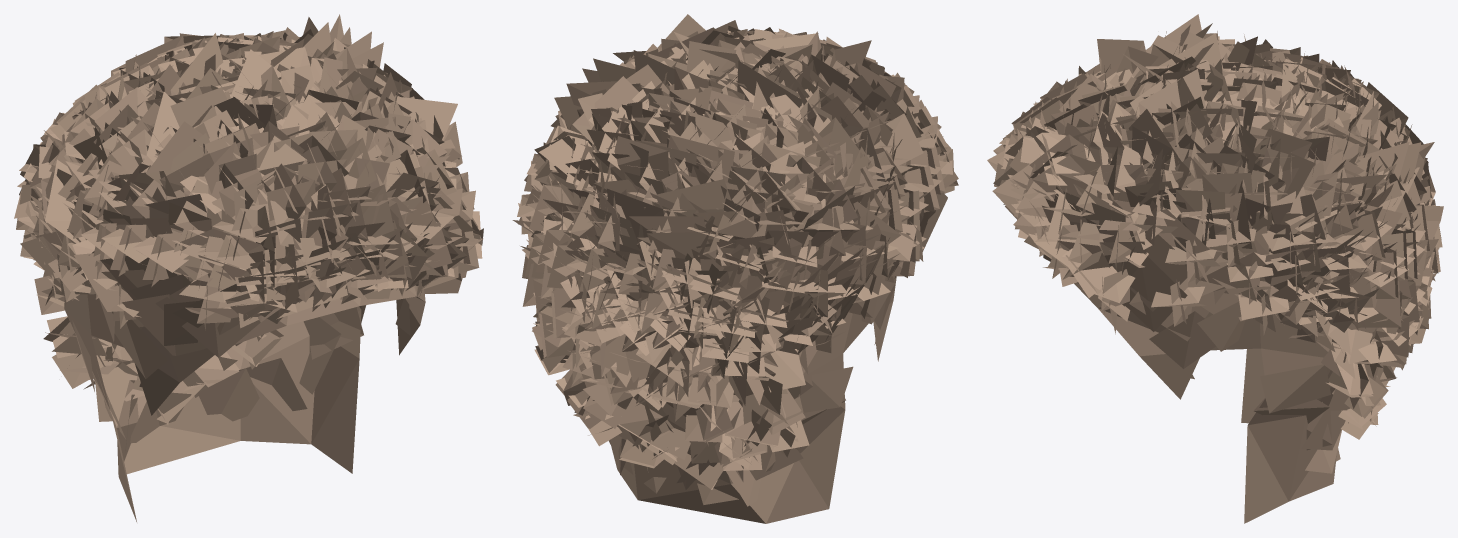
File: male_hair_01_lod1.glb
3 views of the same model, side by side, from view 1: azimuth 30°, elevation 25°; view 2: azimuth 150°, elevation 25°; view 3: azimuth 270°, elevation 25° (orthographic). The views are drawn at different scales.
Visible parts, largest first — view 1: hair_01; view 2: hair_01; view 3: hair_01.
Boxes of the visible parts, bbox=[...] form: hair_01: bbox=[14, 14, 483, 521]; hair_01: bbox=[512, 14, 958, 523]; hair_01: bbox=[987, 14, 1443, 523].
Size of the model in its own units: 0.2007 by 0.235 by 0.2265.
